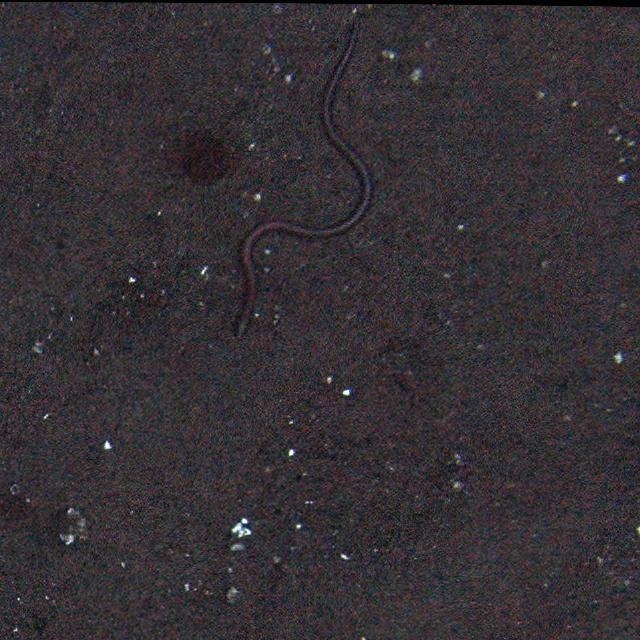eel: (238, 26, 374, 338)
